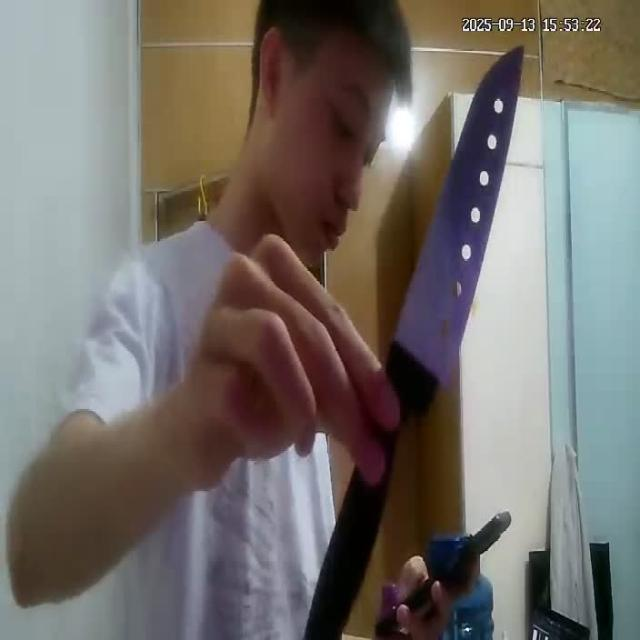senjata_tajam: (388, 44, 526, 418)
